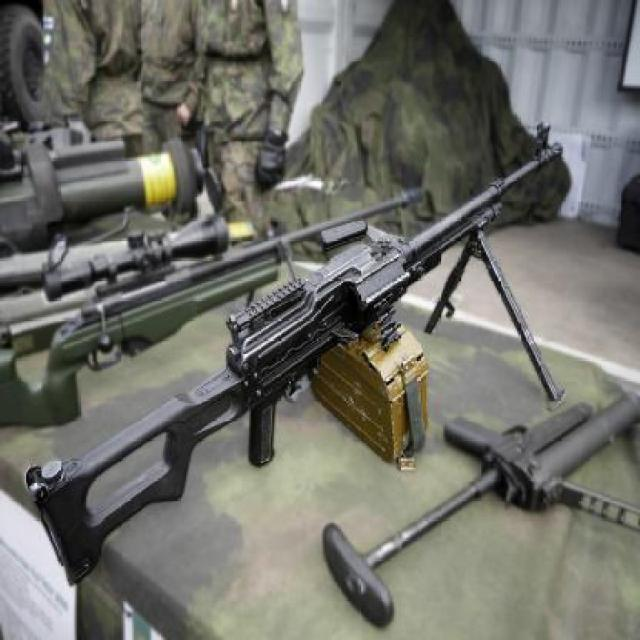weapon: (20, 117, 572, 597)
